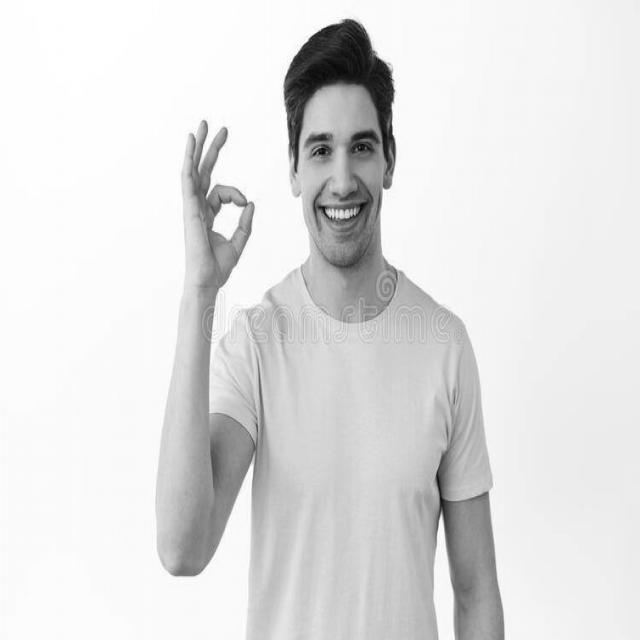perfect: (169, 112, 260, 310)
